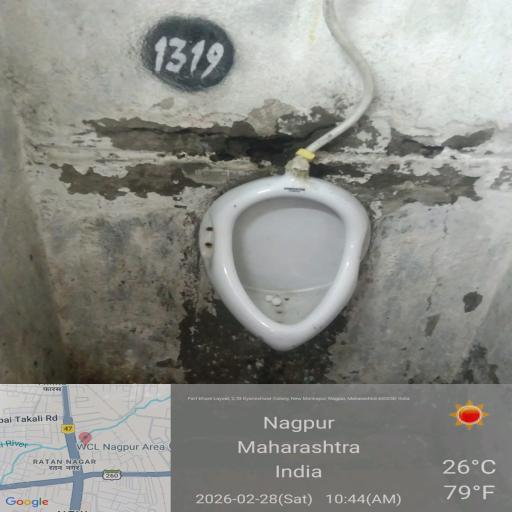clean_urinal: (214, 198, 366, 344)
partial_dirty_floor: (71, 0, 512, 194), (0, 0, 204, 382), (361, 108, 512, 377), (155, 303, 390, 392)
